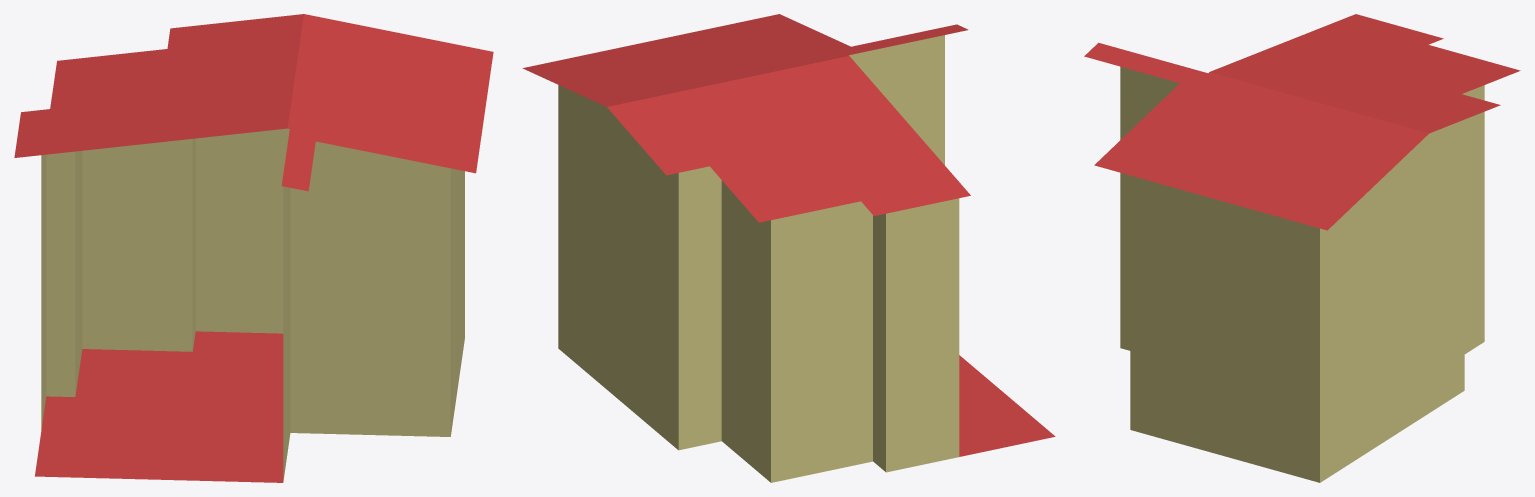
3 renders of one model, left to right at view 1: azimuth 30°, elevation 25°; view 2: azimuth 150°, elevation 25°; view 3: azimuth 270°, elevation 25°, orthographic. The views are drawn at different scales.
Size of the model in its own units: 10.62 by 8.33 by 6.3.
